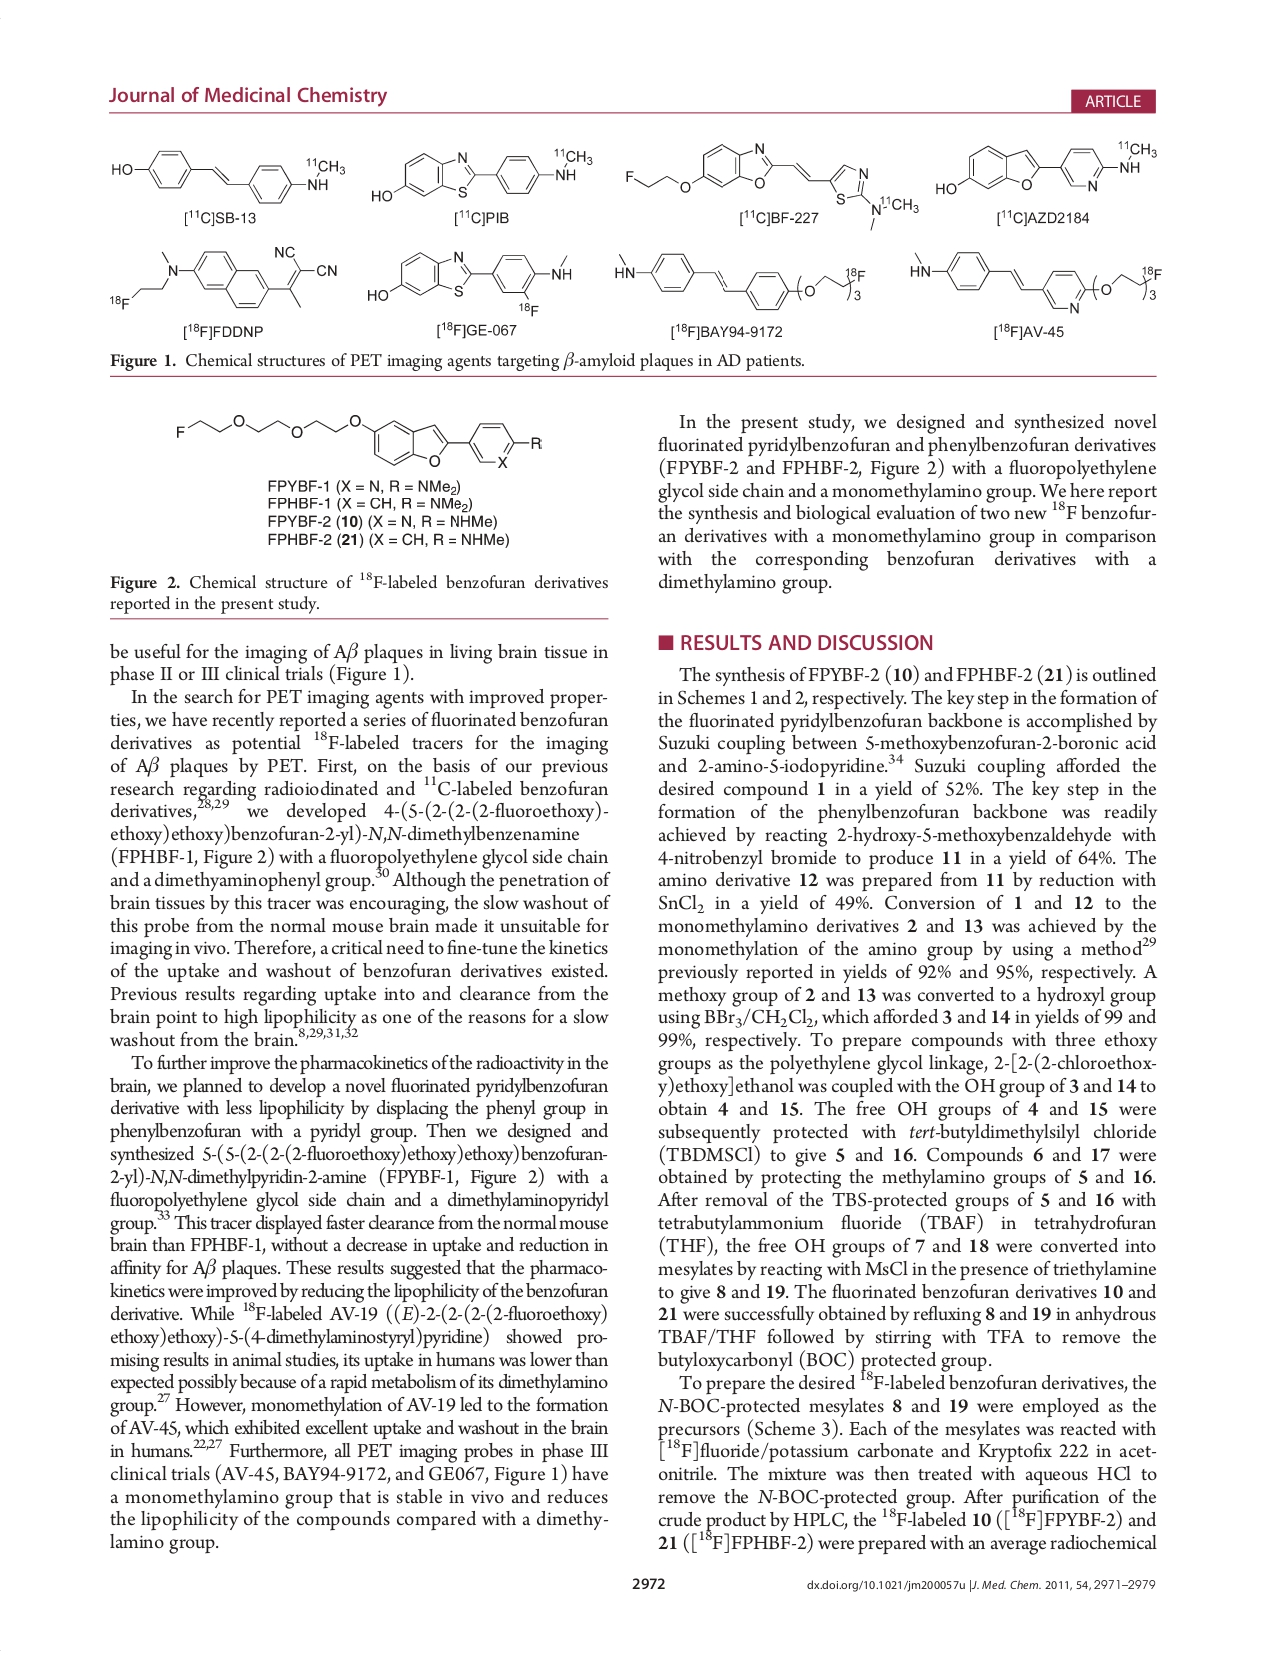exist_molecular: (618, 138, 920, 231), (168, 407, 545, 472), (906, 242, 1162, 317), (610, 246, 868, 314), (106, 242, 338, 313), (363, 246, 577, 321), (368, 142, 596, 206), (932, 136, 1160, 199), (109, 146, 348, 206)
